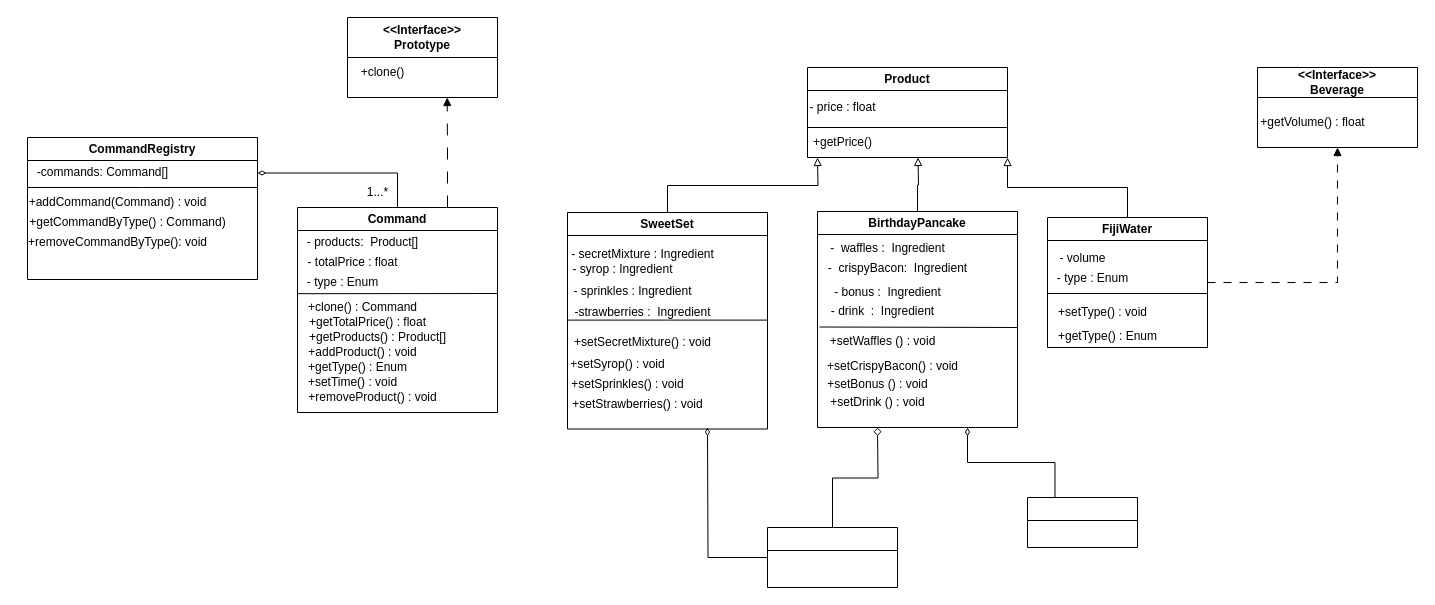
Some shapes in this 1435 by 605 pixel diagram are drawn without their labels. The centre of each missing label's shape, as x and y in pixels:
Bonus: point (1082, 522)
Ingredient: point (832, 557)
